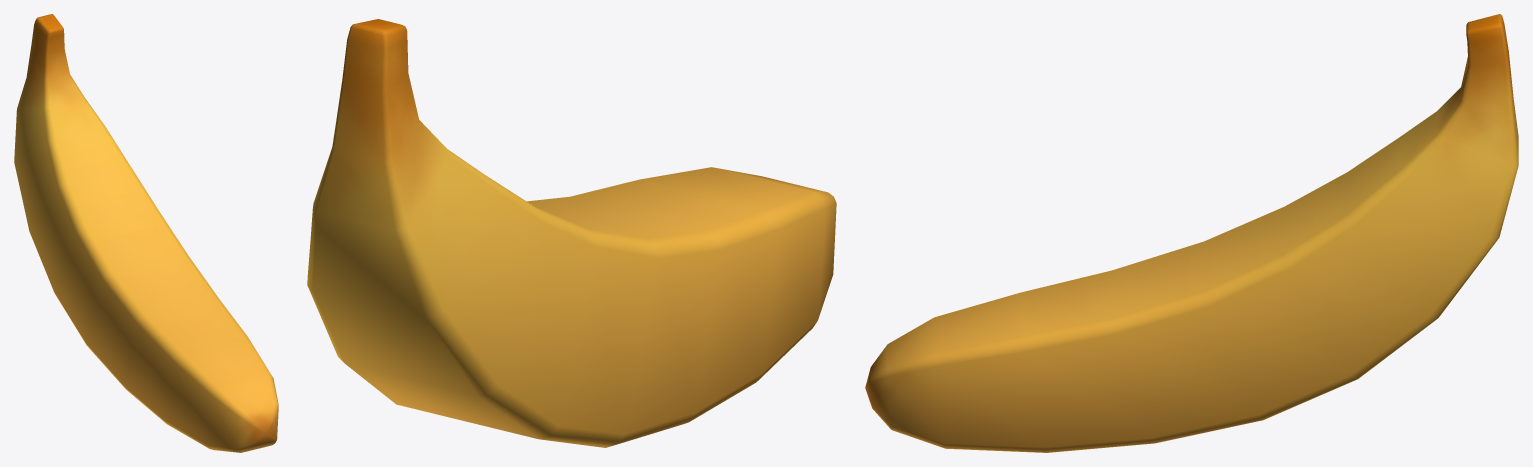
The model's file is Banana.fbx.
3 views of the same model, side by side, from view 1: azimuth 30°, elevation 25°; view 2: azimuth 150°, elevation 25°; view 3: azimuth 270°, elevation 25° (orthographic). The views are drawn at different scales.
Visible parts, largest first — view 1: Banana; view 2: Banana; view 3: Banana.
Part boxes in pixels (x1,y1,x2,y2): Banana: (14, 14, 278, 452); Banana: (307, 19, 836, 447); Banana: (865, 14, 1518, 452).
Size of the model in its own units: 88.89 by 279 by 400.
Materials: 1 (1 with a texture image).
